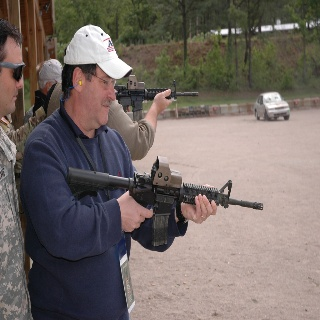rifle: (65, 158, 266, 249), (105, 73, 200, 114)
